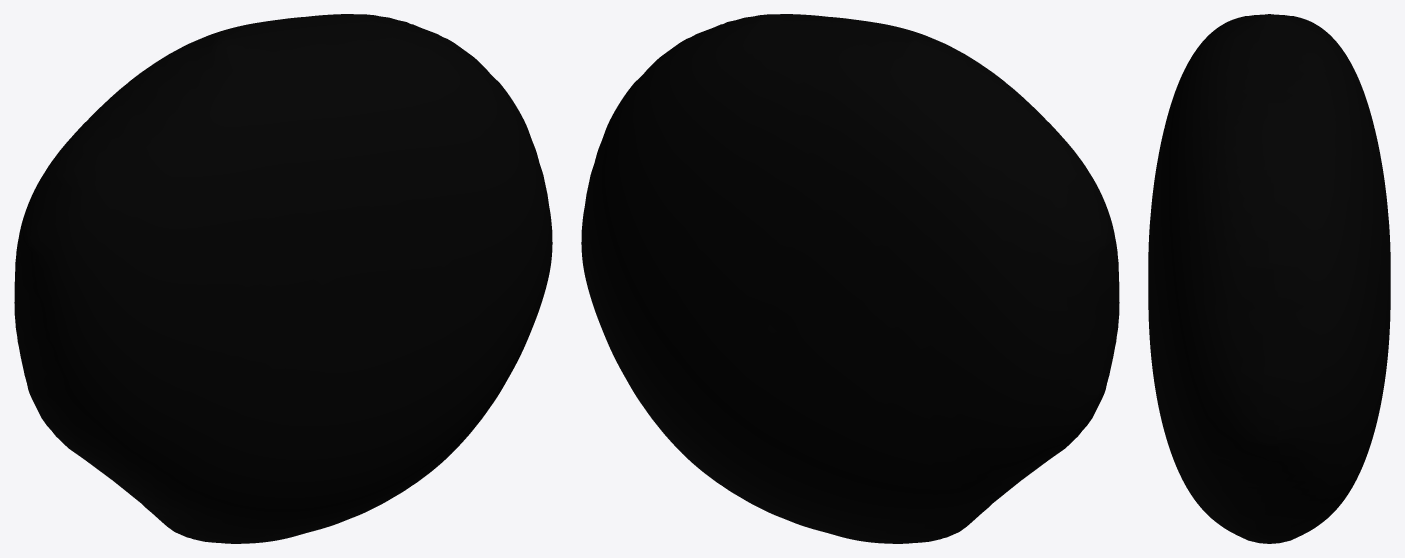
The model's file is rock1.fbx.
The picture shows the model from 3 angles, left to right: view 1: azimuth 30°, elevation 25°; view 2: azimuth 150°, elevation 25°; view 3: azimuth 270°, elevation 25°; orthographic projection. The views are drawn at different scales.
Visible parts, largest first — view 1: root; view 2: root; view 3: root.
Part boxes in pixels (x1,y1,x2,y2): root: (14,14,552,543); root: (581,14,1119,543); root: (1148,14,1390,543).
Bounding box in the file's own units: 0.3044 × 0.2841 × 0.1332.
Materials: 1 (1 with a texture image).
